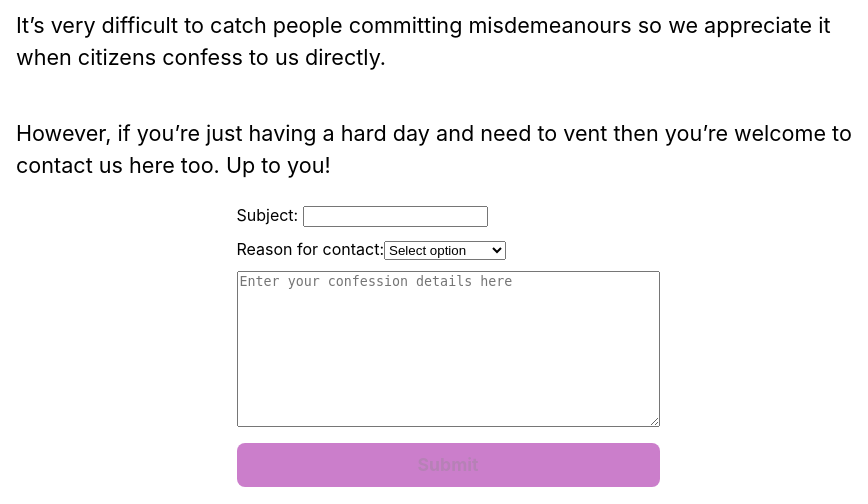
Test: <confession/> component › button state is changed to enabled when all form input fields are valid
Type "Sprouts" into the field with test id "confessionSubject" showing "Subject:" at point(395, 216), box x1=303 y1=206 x2=488 y2=227
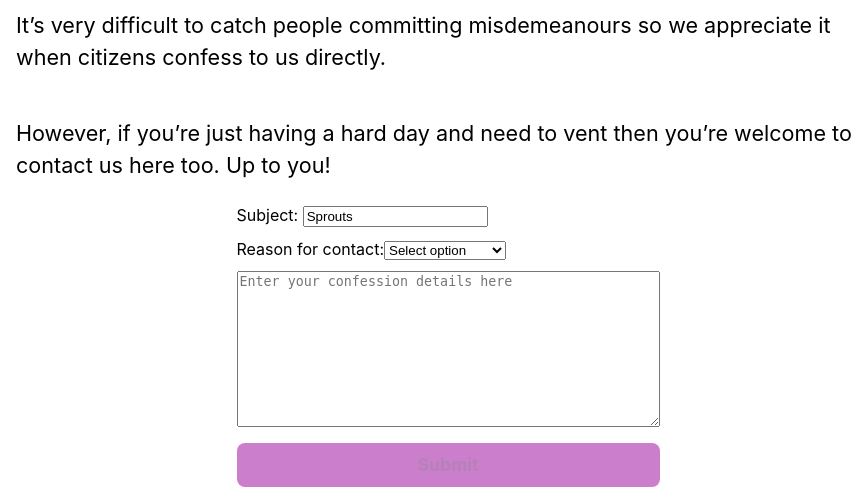
Select "Vegetables" in the dropdown with test id "reasonForConfession" at point(445, 250), box x1=384 y1=241 x2=506 y2=260
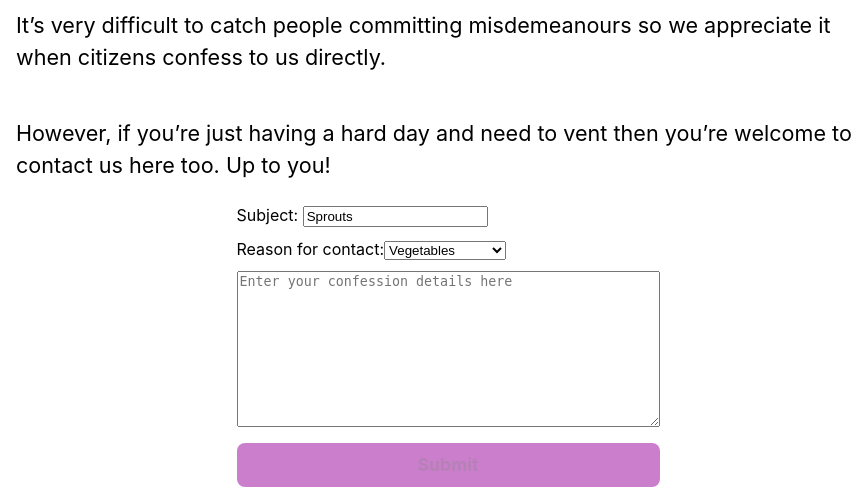
Type "Why do we only eat sprouts at xmas?" into the 1st text box with test id "confessionDetails" at point(448, 349), box x1=236 y1=271 x2=660 y2=427
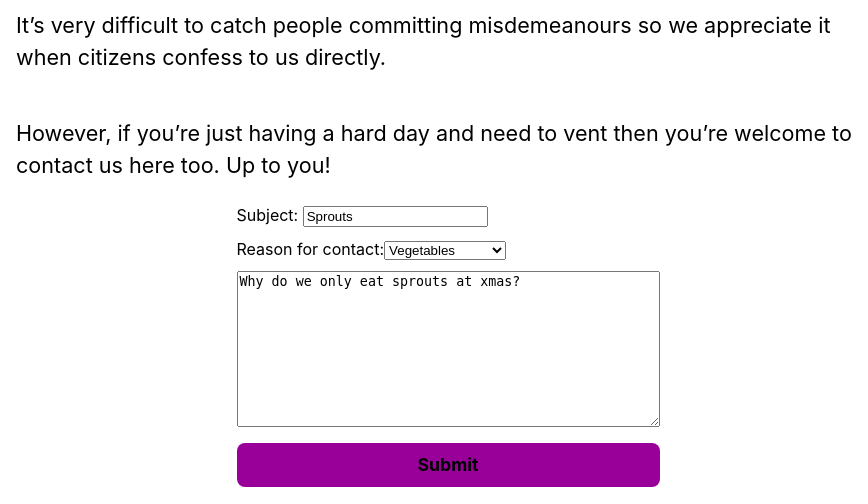
Expected: the button is enabled, x1=236 y1=443 x2=660 y2=487
